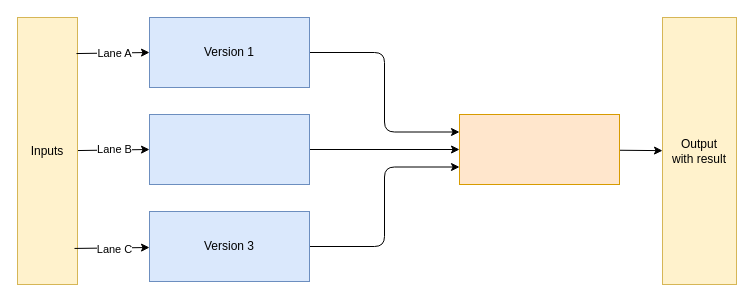
Some shapes in this 754 by 302 pixel diagram are drawn without their labels. The box of each missing label's shape, as (x1, y1, x2, y2) in pixels:
Decision Algorithm: (458, 114, 620, 184)
Version 2: (148, 114, 310, 184)
